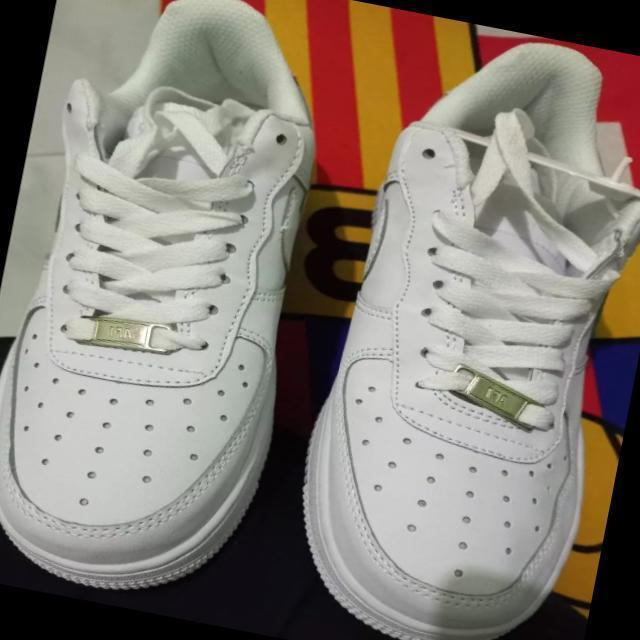nike fake air force: (272, 10, 640, 640), (0, 0, 361, 620)
